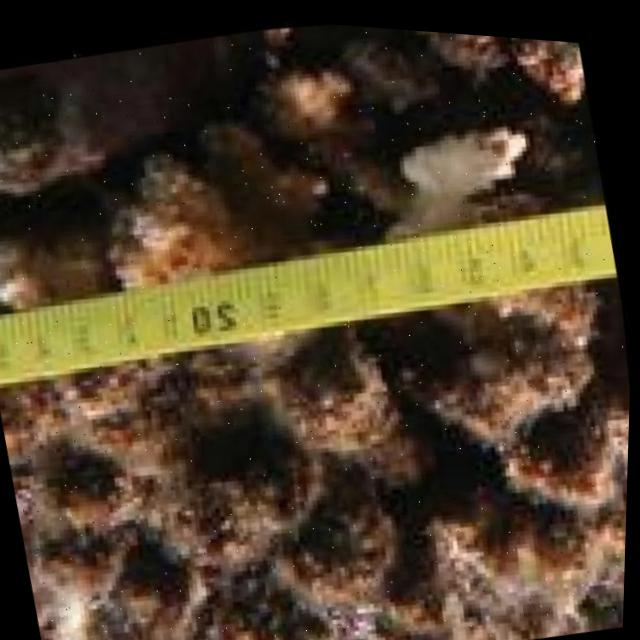Healthy Coral: (0, 226, 635, 640)
